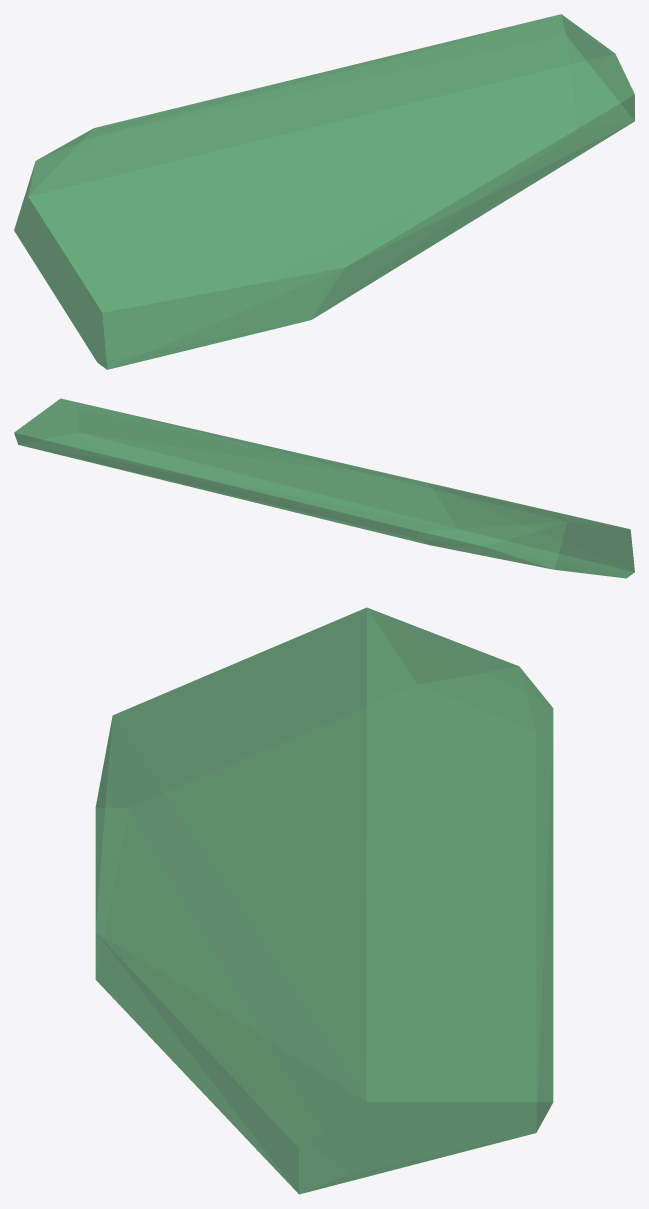
The picture shows the model from 3 angles, top to bottom: view 1: azimuth 30°, elevation 25°; view 2: azimuth 150°, elevation 25°; view 3: azimuth 270°, elevation 25°; orthographic projection. The views are drawn at different scales.
Parts seen in each view (by area): view 1: Shape_IndexedFaceSet.008_Shape_IndexedFaceSet.1705; view 2: Shape_IndexedFaceSet.008_Shape_IndexedFaceSet.1705; view 3: Shape_IndexedFaceSet.008_Shape_IndexedFaceSet.1705.
Boxes of the visible parts, x1,y1,x2,y2 form: Shape_IndexedFaceSet.008_Shape_IndexedFaceSet.1705: [14, 14, 634, 369]; Shape_IndexedFaceSet.008_Shape_IndexedFaceSet.1705: [14, 398, 634, 578]; Shape_IndexedFaceSet.008_Shape_IndexedFaceSet.1705: [95, 607, 553, 1194].
Size of the model in its own units: 0.2355 by 0.0444 by 0.0921.
